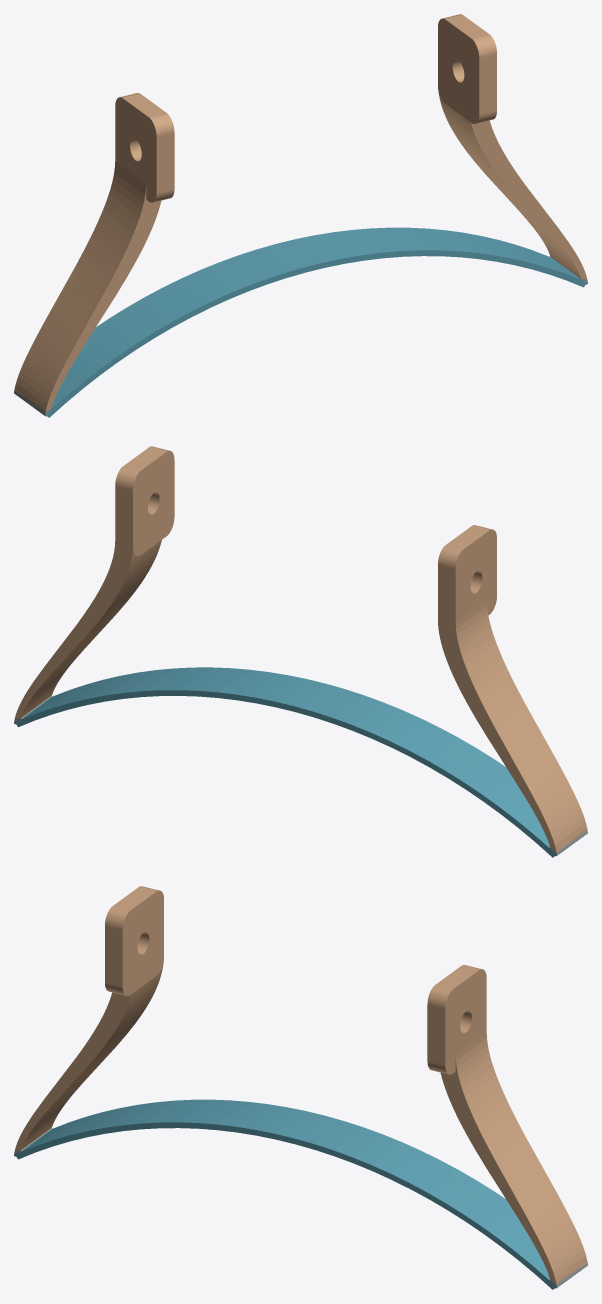
The model's file is BOZZA_R03_colori_esplicativi.glb.
3 views of the same model, one above another, from view 1: azimuth 30°, elevation 25°; view 2: azimuth 150°, elevation 25°; view 3: azimuth 330°, elevation 25° (orthographic).
Parts seen in each view (by area): view 1: BOZZA_R03_NON_USO.stl; view 2: BOZZA_R03_NON_USO.stl; view 3: BOZZA_R03_NON_USO.stl.
Part boxes in pixels (left/top/right/bottom): BOZZA_R03_NON_USO.stl: left=14, top=14, right=587, bottom=417; BOZZA_R03_NON_USO.stl: left=14, top=446, right=587, bottom=857; BOZZA_R03_NON_USO.stl: left=14, top=886, right=587, bottom=1289.
Bounding box in the file's own units: 0.1212 × 0.0594 × 0.016.
